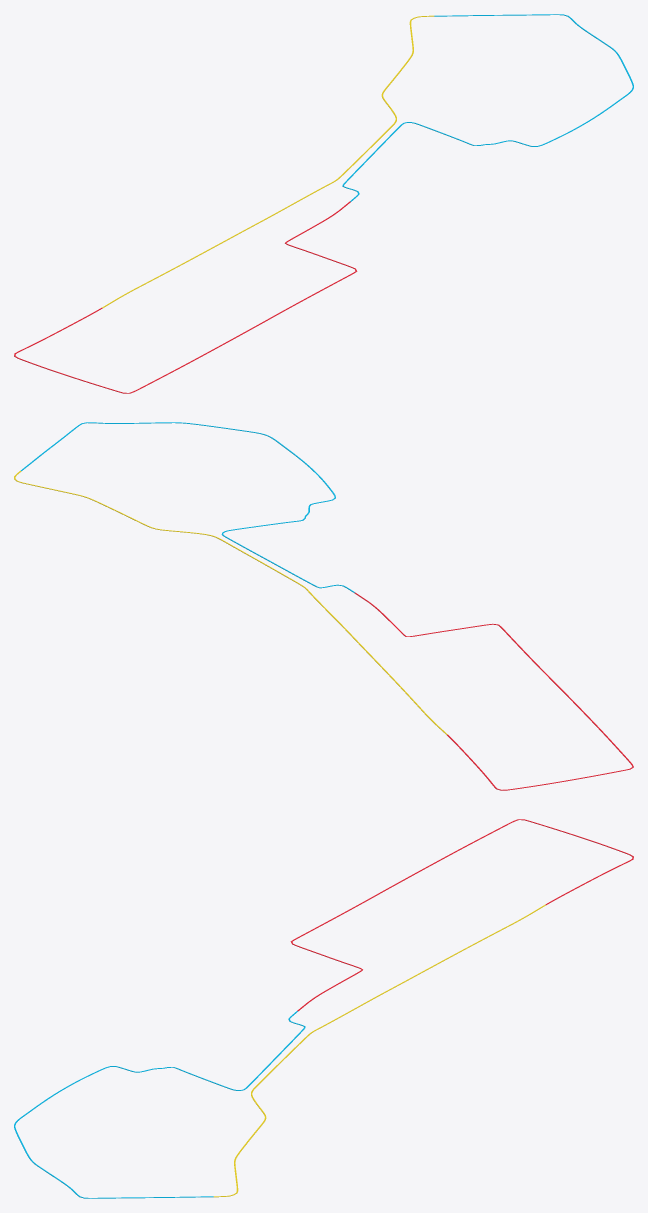
File: BakuSectors.glb
The picture shows the model from 3 angles, top to bottom: view 1: azimuth 90°, elevation 25°; view 2: azimuth 150°, elevation 25°; view 3: azimuth 270°, elevation 25°; orthographic projection.
Parts seen in each view (by area): view 1: SectorStrip_1, SectorStrip_2, SectorStrip_3; view 2: SectorStrip_2, SectorStrip_1, SectorStrip_3; view 3: SectorStrip_1, SectorStrip_2, SectorStrip_3.
Part boxes in pixels (x1,y1,x2,y2): SectorStrip_1: (14, 201, 357, 393); SectorStrip_2: (342, 14, 633, 201); SectorStrip_3: (102, 15, 434, 307); SectorStrip_2: (20, 422, 354, 592); SectorStrip_1: (354, 592, 633, 790); SectorStrip_3: (14, 471, 447, 734); SectorStrip_1: (290, 819, 633, 1011); SectorStrip_2: (14, 1011, 305, 1198); SectorStrip_3: (213, 904, 545, 1197).
Bounding box in the file's own units: 16.09 × 0.006 × 11.11.
